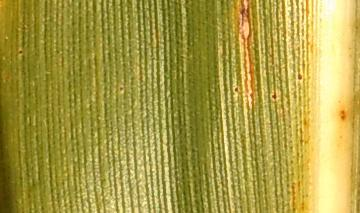tarspot: (270, 92, 278, 100), (296, 71, 303, 80), (233, 85, 240, 93), (118, 85, 124, 92), (17, 49, 24, 55)
